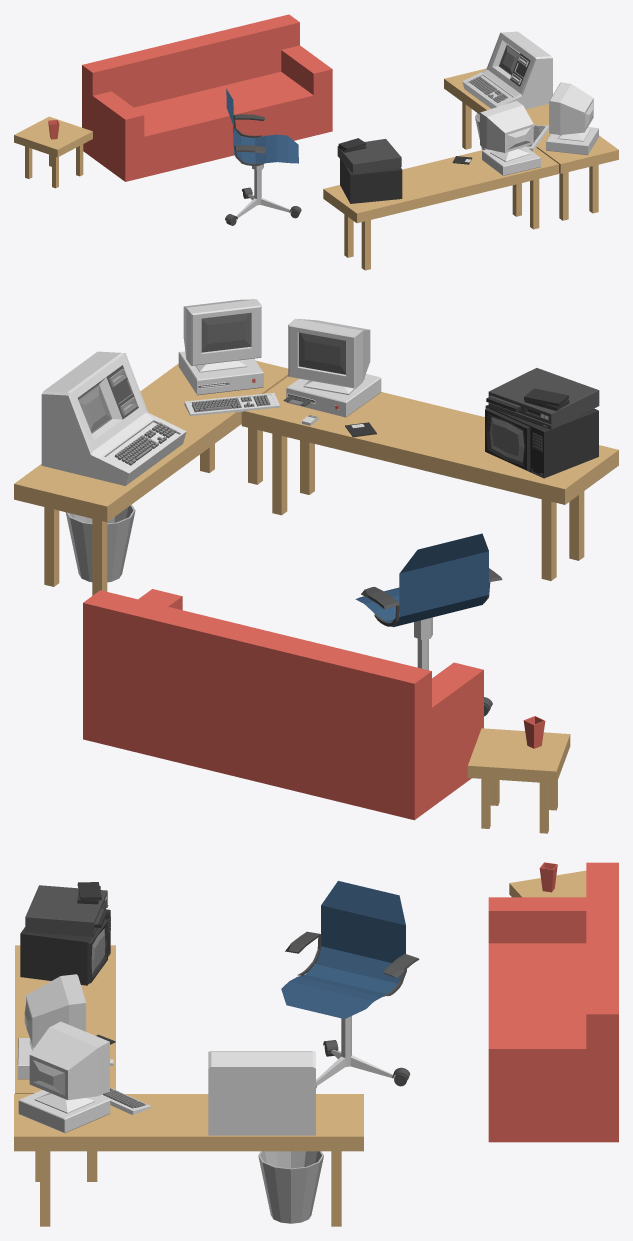
The model's file is hacker_room.glb.
The picture shows the model from 3 angles, top to bottom: view 1: azimuth 30°, elevation 25°; view 2: azimuth 150°, elevation 25°; view 3: azimuth 270°, elevation 25°; orthographic projection. The views are drawn at different scales.
Parts seen in each view (by area): view 1: Couch.001, Table2.002, Computer_Old.001, Table2.001, Chair,001, SmallDesk.001, Monitor.002, Monitor.001, TV.001, VHS.001, Desktop2.001, Desktop.001; view 2: Couch.001, Table2.002, Table2.001, Computer_Old.001, Chair,001, SmallDesk.001, TV.001, Monitor.002, Monitor.001, VHS.001, Trash.001, Desktop2.001 (+2 smaller); view 3: Couch.001, Table2.001, Chair,001, Computer_Old.001, Monitor.001, Table2.002, TV.001, Trash.001, VHS.001, Monitor.002, Desktop.001, SmallDesk.001 (+2 smaller).
Part boxes in pixels (x1=…): Couch.001: x1=82, y1=14, x2=332, y2=181; Table2.002: x1=323, y1=147, x2=558, y2=270; Computer_Old.001: x1=462, y1=31, x2=552, y2=109; Table2.001: x1=444, y1=68, x2=618, y2=220; Chair,001: x1=225, y1=88, x2=301, y2=225; SmallDesk.001: x1=14, y1=116, x2=92, y2=188; Monitor.002: x1=480, y1=101, x2=533, y2=161; Monitor.001: x1=549, y1=82, x2=593, y2=141; TV.001: x1=340, y1=159, x2=402, y2=203; VHS.001: x1=337, y1=138, x2=401, y2=174; Desktop2.001: x1=482, y1=146, x2=540, y2=175; Desktop.001: x1=546, y1=127, x2=598, y2=155; Couch.001: x1=83, y1=589, x2=483, y2=820; Table2.002: x1=241, y1=376, x2=618, y2=580; Table2.001: x1=14, y1=360, x2=288, y2=595; Computer_Old.001: x1=41, y1=351, x2=186, y2=485; Chair,001: x1=355, y1=533, x2=502, y2=716; SmallDesk.001: x1=467, y1=728, x2=570, y2=833; TV.001: x1=485, y1=405, x2=598, y2=478; Monitor.002: x1=288, y1=318, x2=370, y2=394; Monitor.001: x1=183, y1=299, x2=261, y2=372; VHS.001: x1=486, y1=368, x2=599, y2=429; Trash.001: x1=65, y1=504, x2=135, y2=582; Desktop2.001: x1=283, y1=373, x2=381, y2=417; Couch.001: x1=488, y1=862, x2=618, y2=1142; Table2.001: x1=14, y1=1094, x2=363, y2=1226; Chair,001: x1=281, y1=881, x2=419, y2=1087; Computer_Old.001: x1=208, y1=1051, x2=315, y2=1135; Monitor.001: x1=29, y1=1021, x2=109, y2=1113; Table2.002: x1=15, y1=945, x2=115, y2=1181; TV.001: x1=20, y1=909, x2=110, y2=985; Trash.001: x1=258, y1=1151, x2=323, y2=1223; VHS.001: x1=25, y1=882, x2=108, y2=937; Monitor.002: x1=24, y1=974, x2=86, y2=1050; Desktop.001: x1=18, y1=1090, x2=110, y2=1133; SmallDesk.001: x1=509, y1=870, x2=586, y2=897.
Bounding box in the file's own units: 4.26 × 1.32 × 3.6.
